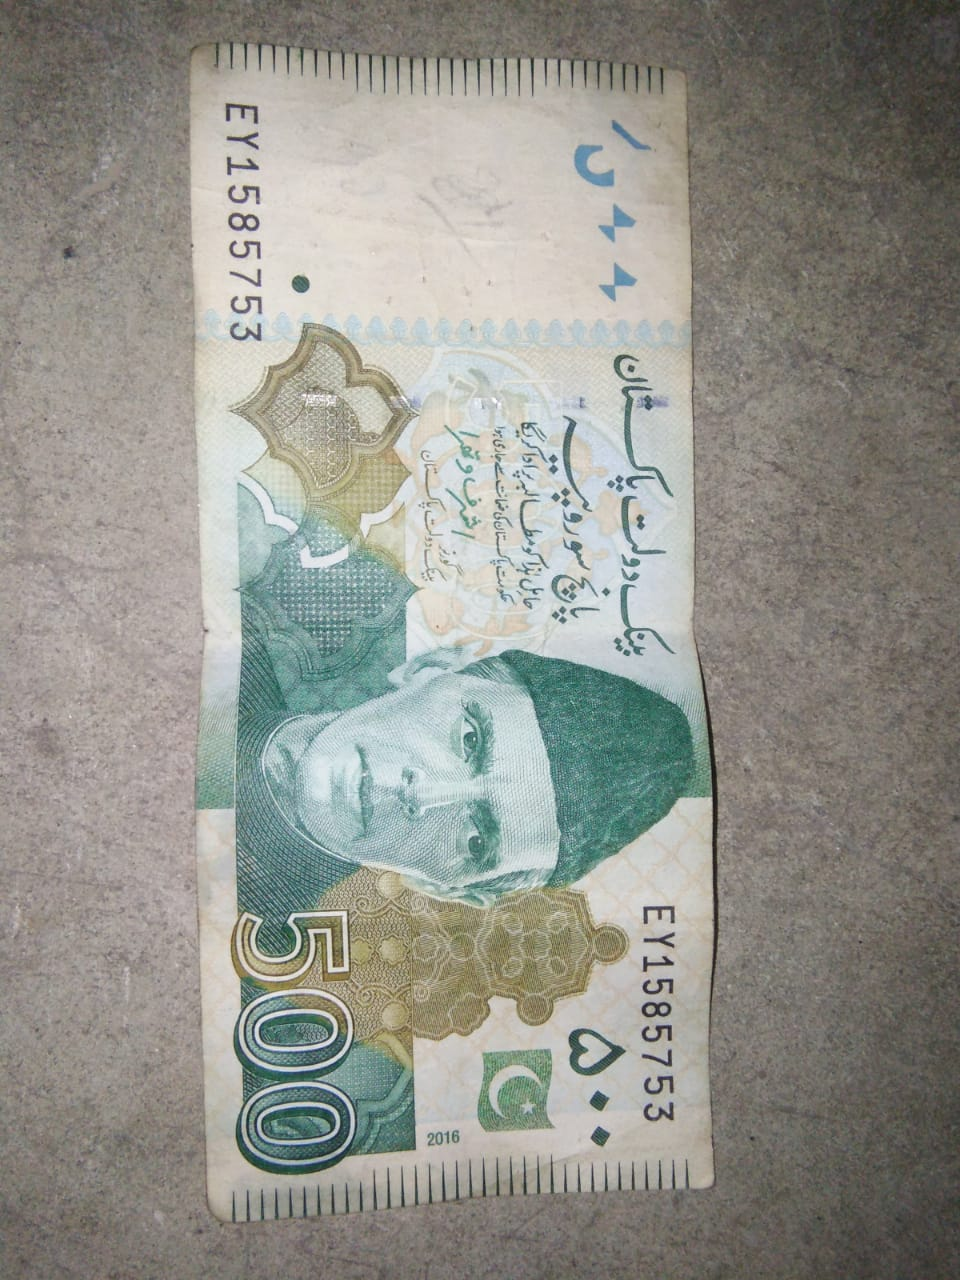500 rupee: (175, 44, 739, 1217)
